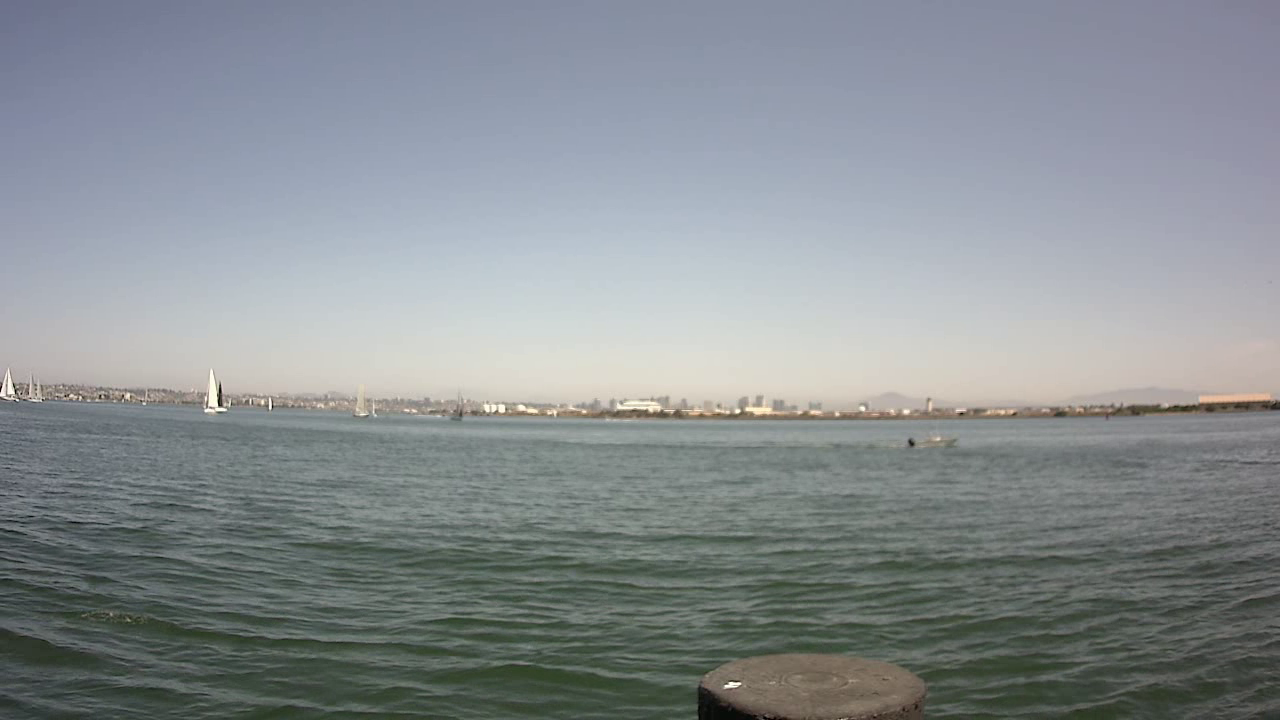target: (896, 429, 964, 453)
